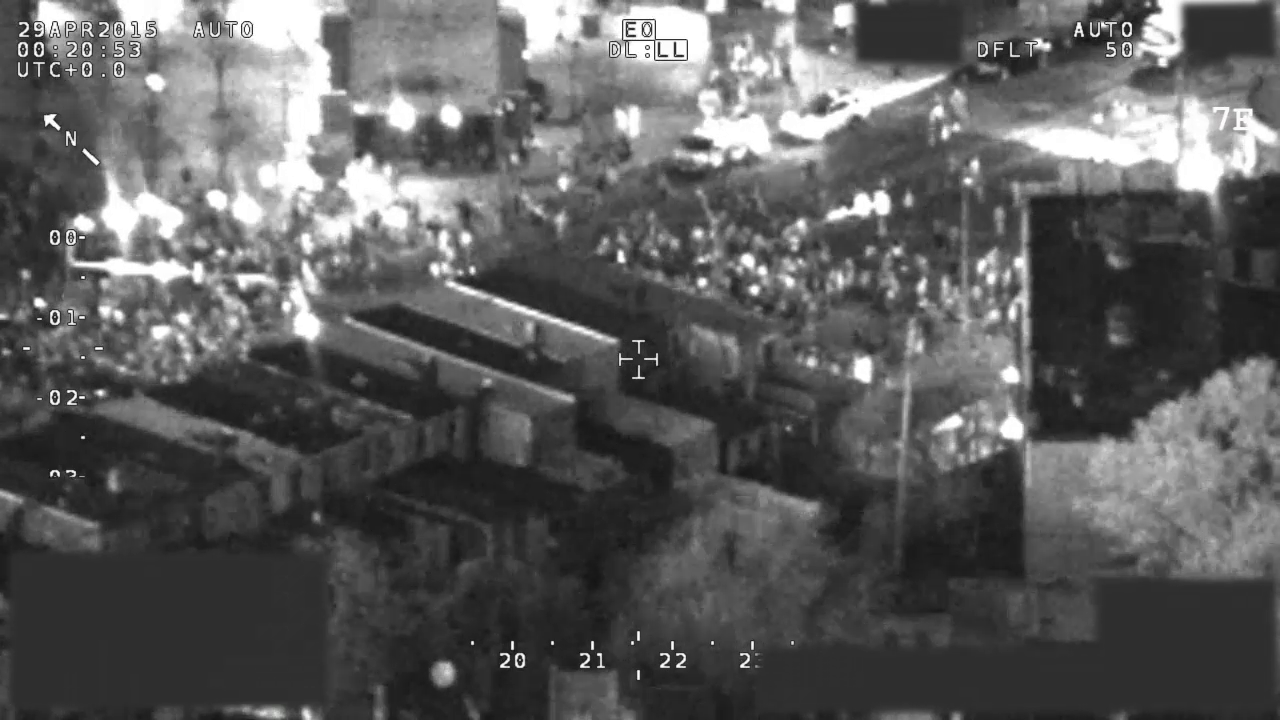vehicle: (670, 102, 775, 183), (783, 81, 879, 149), (964, 30, 1063, 83)
